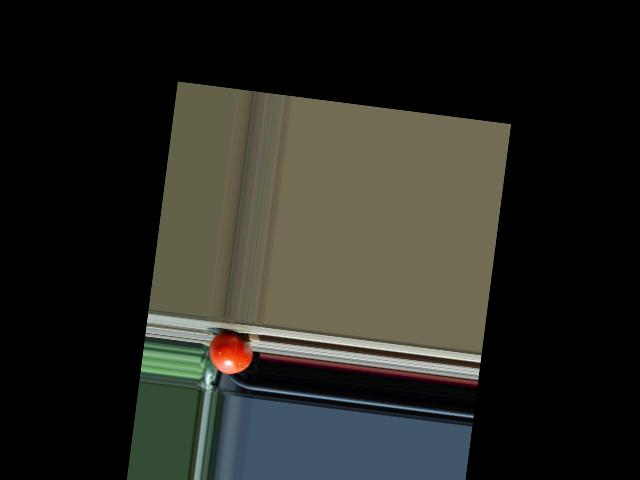tomato: (205, 331, 254, 377)
